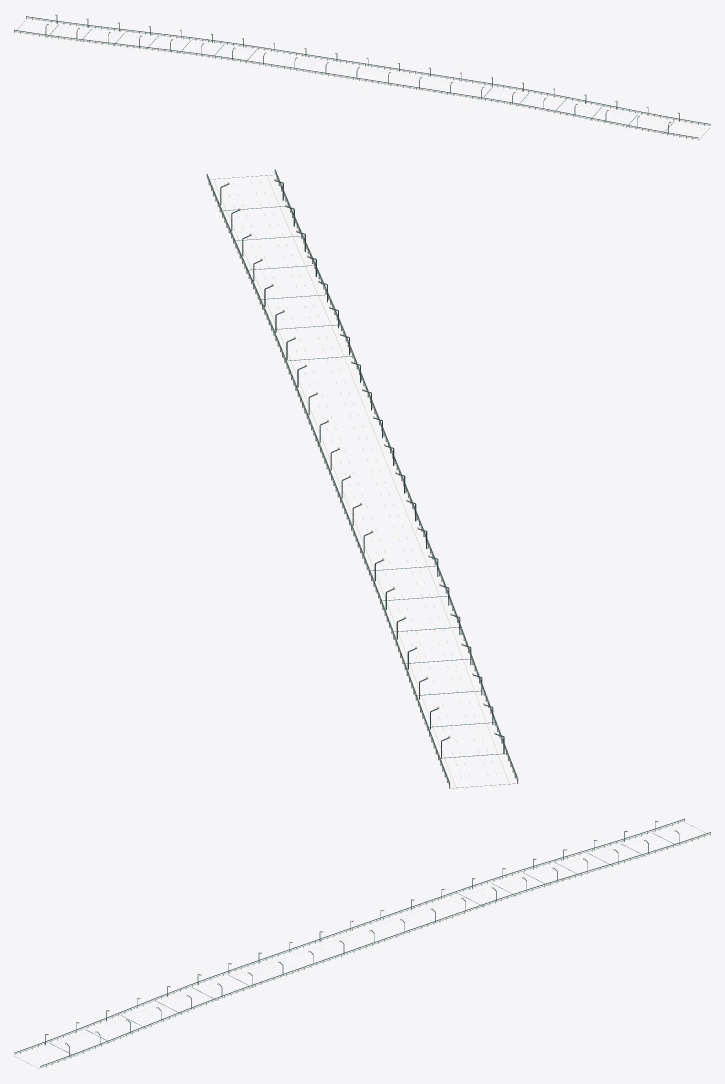
Rendered from transport-1--2.glb.
The picture shows the model from 3 angles, top to bottom: view 1: azimuth 30°, elevation 25°; view 2: azimuth 150°, elevation 25°; view 3: azimuth 270°, elevation 25°; orthographic projection. The views are drawn at different scales.
Parts seen in each view (by area): view 1: RiverBridge_Details_wuxiang-bridge; view 2: RiverBridge_Details_wuxiang-bridge; view 3: RiverBridge_Details_wuxiang-bridge.
Boxes of the visible parts, box(x1,y1,x2,y2) form: RiverBridge_Details_wuxiang-bridge: box(14, 14, 710, 139); RiverBridge_Details_wuxiang-bridge: box(206, 169, 518, 789); RiverBridge_Details_wuxiang-bridge: box(14, 818, 710, 1069).
Size of the model in its own units: 5.86 by 0.241 by 6.97.
